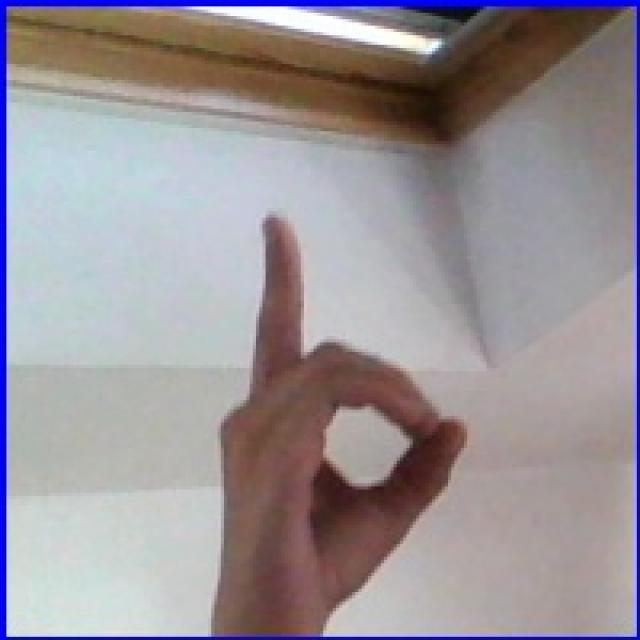Letra D: (121, 179, 528, 626)
